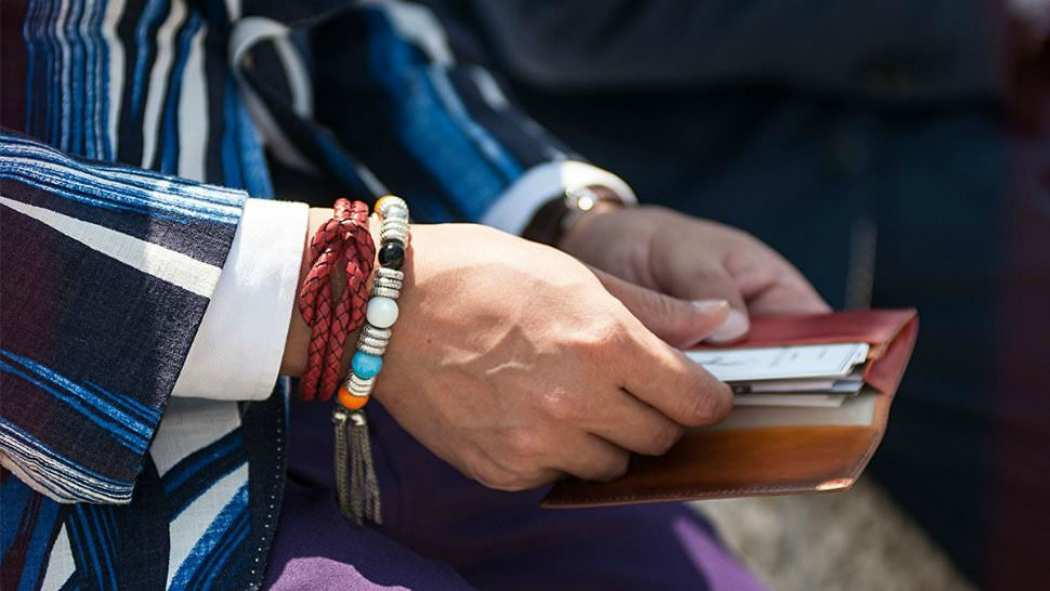monedero: (537, 305, 930, 514)
